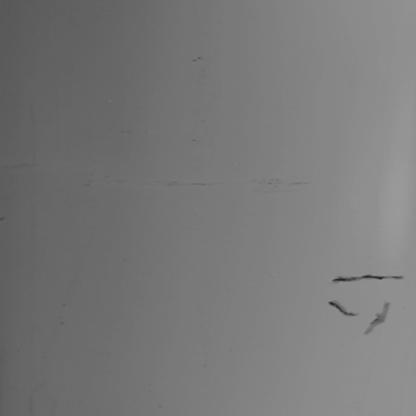fengxi: (365, 304, 392, 333), (333, 274, 404, 284), (327, 301, 359, 316)
